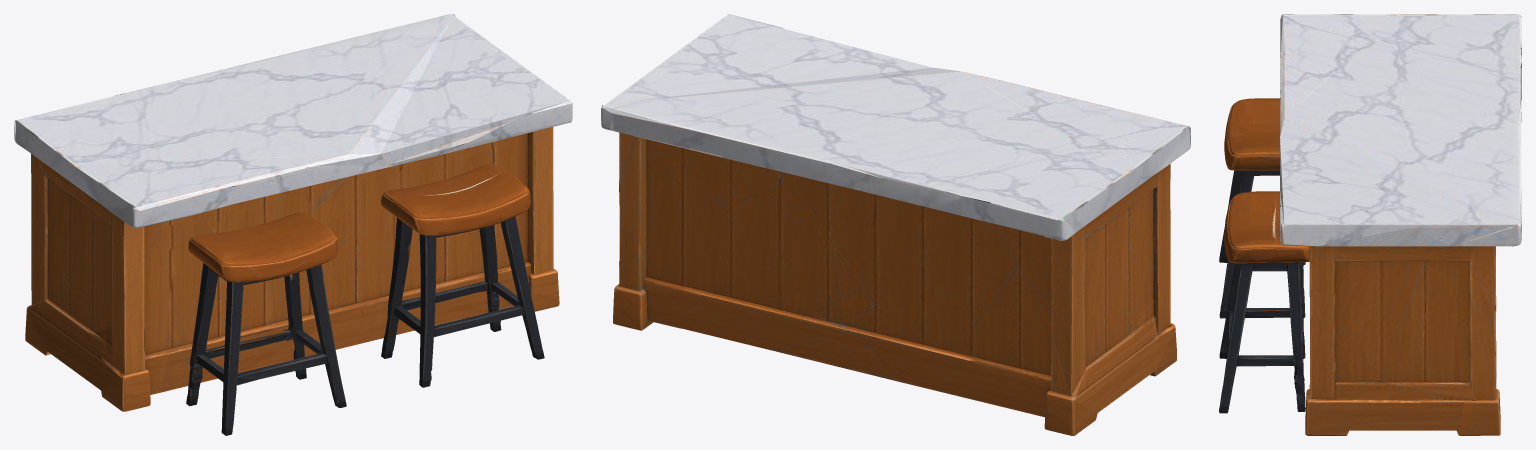
Rendered from p_kitchen.glb.
3 renders of one model, left to right at view 1: azimuth 30°, elevation 25°; view 2: azimuth 150°, elevation 25°; view 3: azimuth 270°, elevation 25°, orthographic. The views are drawn at different scales.
Size of the model in its own units: 1.9 by 0.9099 by 1.15.
Materials: 1 (1 with a texture image).
